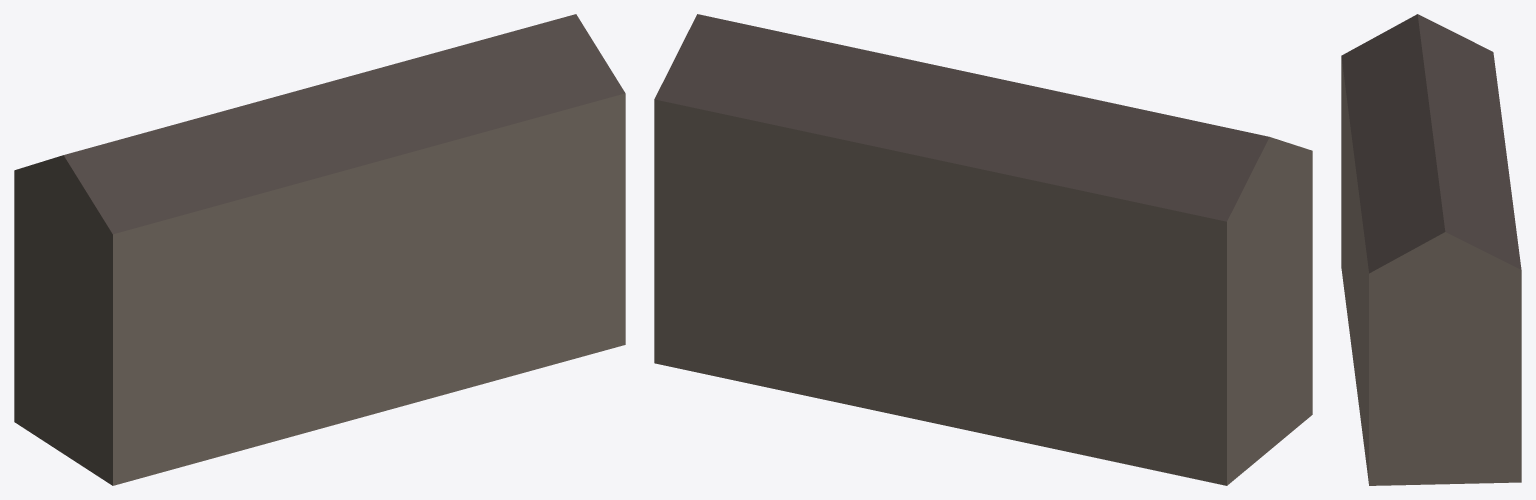
The picture shows the model from 3 angles, left to right: view 1: azimuth 30°, elevation 25°; view 2: azimuth 150°, elevation 25°; view 3: azimuth 270°, elevation 25°; orthographic projection. The views are drawn at different scales.
Parts seen in each view (by area): view 1: HP-w1424106469; view 2: HP-w1424106469; view 3: HP-w1424106469.
Boxes of the visible parts, <box> form: HP-w1424106469: <box>14,14,625,485</box>; HP-w1424106469: <box>654,14,1312,485</box>; HP-w1424106469: <box>1341,14,1521,485</box>.
Size of the model in its own units: 13.42 by 7.13 by 4.61.
